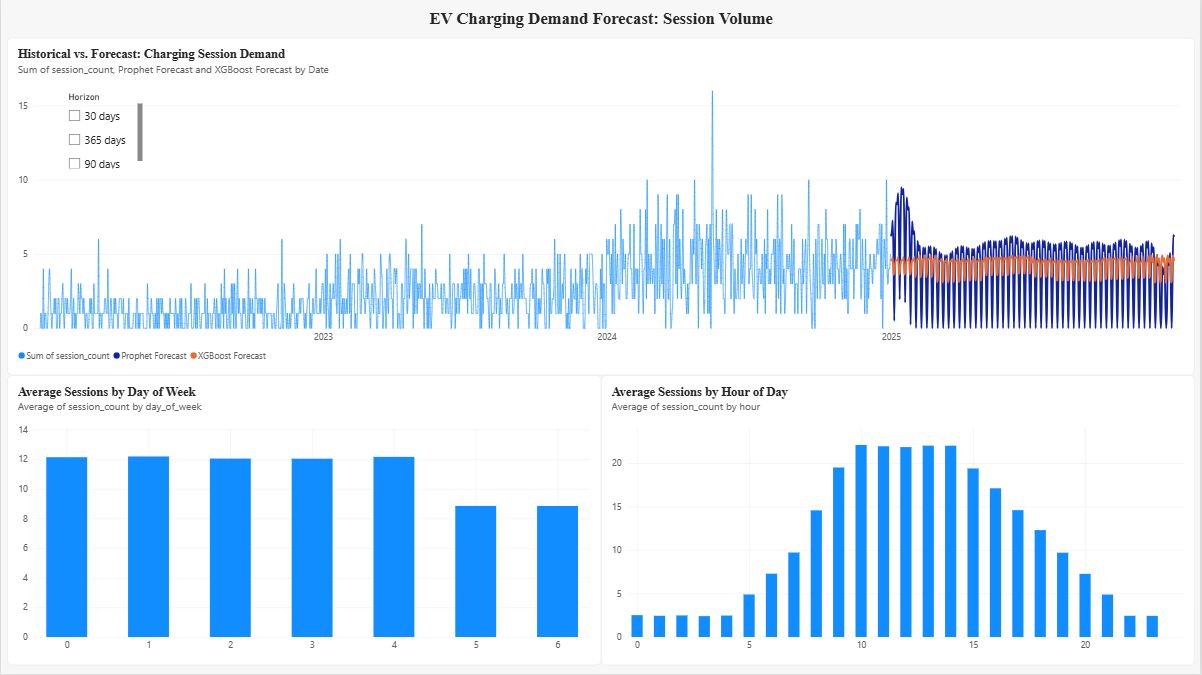

The page's visual inventory and layout, read from the dashboard file:
{"tool":"powerbi","page":{"name":"Session Volume","canvas":[1920,1080],"ordinal":0},"visuals":[{"type":"lineChart","title":"Historical vs. Forecast: Charging Session Demand","fields":{"Category":["DateTable.Date"],"Y":["Sum(hourly_demand.session_count)","forecast_all.Prophet Forecast","forecast_all.XGBoost Forecast"]},"box":[10,61.7,1900,540],"z":0},{"type":"clusteredColumnChart","title":"Average Sessions by Day of Week","fields":{"Category":["hourly_demand.day_of_week"],"Y":["Avg(hourly_demand.session_count)"]},"box":[10,602,950,464],"z":1000},{"type":"clusteredColumnChart","title":"Average Sessions by Hour of Day","fields":{"Category":["hourly_demand.hour"],"Y":["Avg(hourly_demand.session_count)"]},"box":[960,602,950,464],"z":2000},{"type":"slicer","fields":{"Values":["forecast_all.Horizon"]},"box":[100,148.3,126.7,123.3],"z":3000},{"type":"textbox","box":[10,15,1900,43.3],"z":4000}]}

Visuals, with their boxes in screenshot pixels (x1, y1, x2, y2), scaled from the page's 1920x1080 canvas onto the 1202x675 screenshot:
"Historical vs. Forecast: Charging Session Demand" lineChart: 6 39 1196 376
"Average Sessions by Day of Week" clusteredColumnChart: 6 376 601 666
"Average Sessions by Hour of Day" clusteredColumnChart: 601 376 1196 666
slicer - forecast_all.Horizon: 63 93 142 170
textbox: 6 9 1196 36
